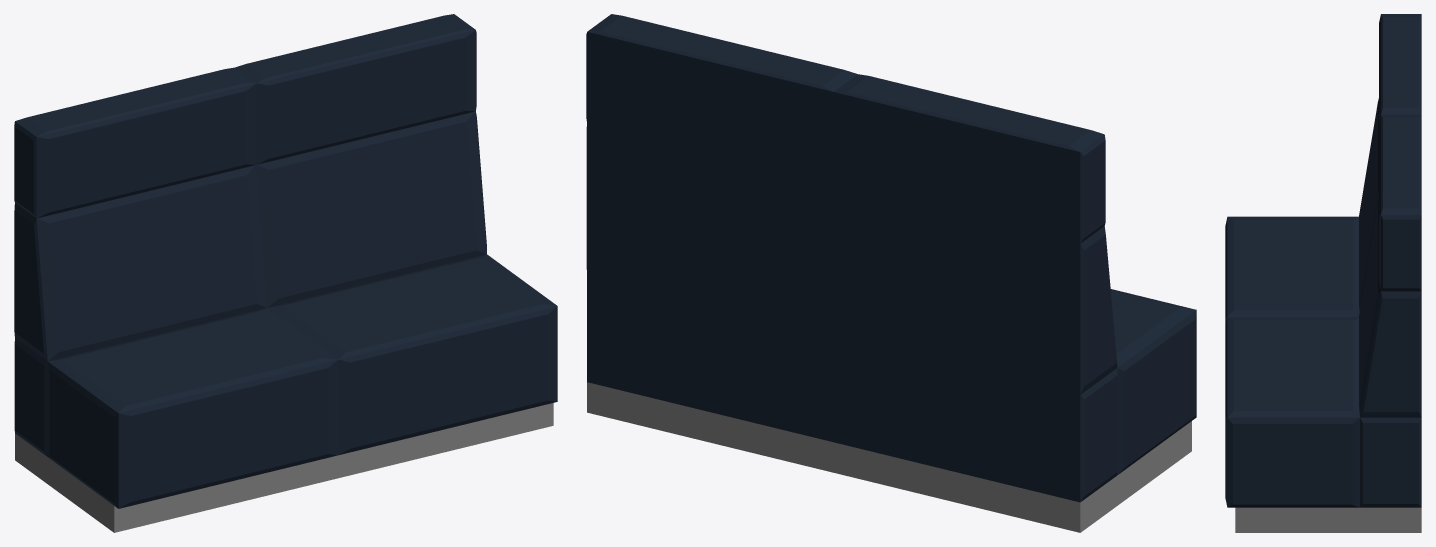
File: flux_0_couches.fbx
3 renders of one model, left to right at view 1: azimuth 30°, elevation 25°; view 2: azimuth 150°, elevation 25°; view 3: azimuth 270°, elevation 25°, orthographic. The views are drawn at different scales.
Visible parts, largest first — view 1: Cube; view 2: Cube; view 3: Cube.
Boxes of the visible parts, x1,y1,x2,y2 form: Cube: [14, 14, 557, 532]; Cube: [586, 14, 1196, 532]; Cube: [1225, 14, 1421, 532].
Size of the model in its own units: 723 by 532 by 296.
